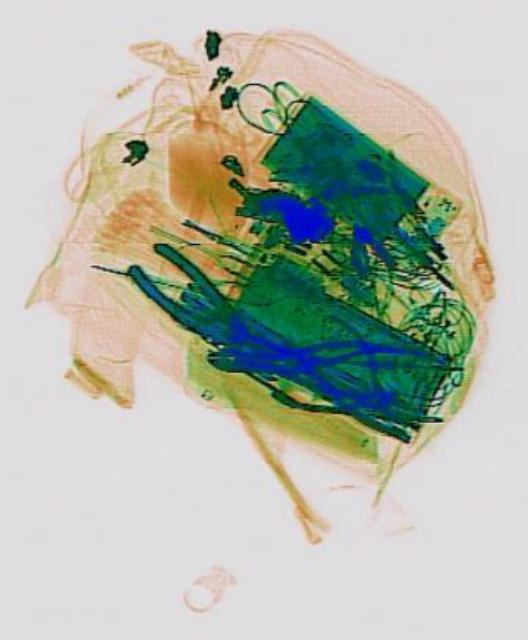Pliers: (118, 227, 270, 371), (202, 321, 392, 412), (278, 329, 431, 415)
